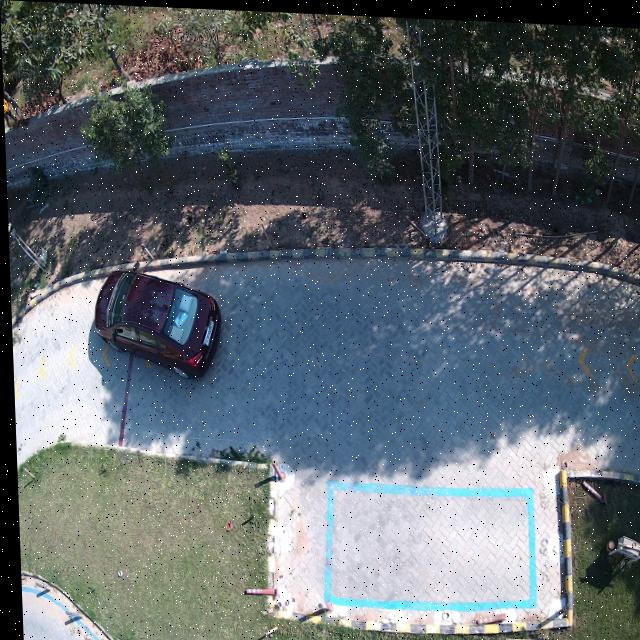car: (92, 270, 219, 376)
